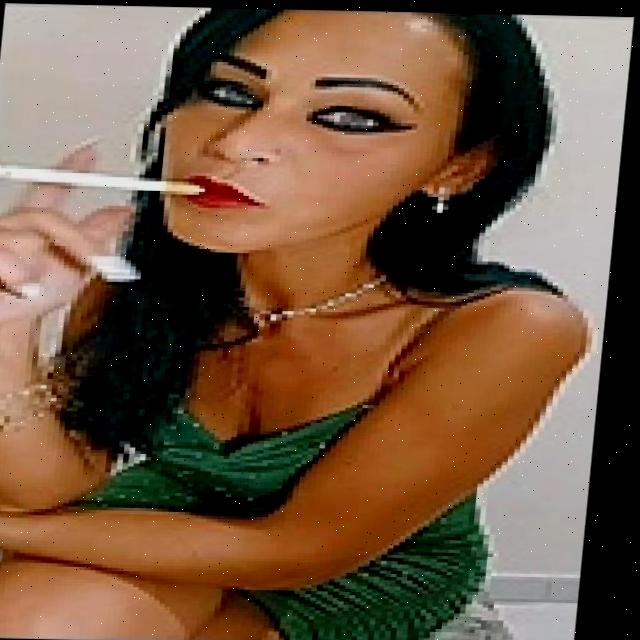cigarette: (0, 161, 209, 195)
